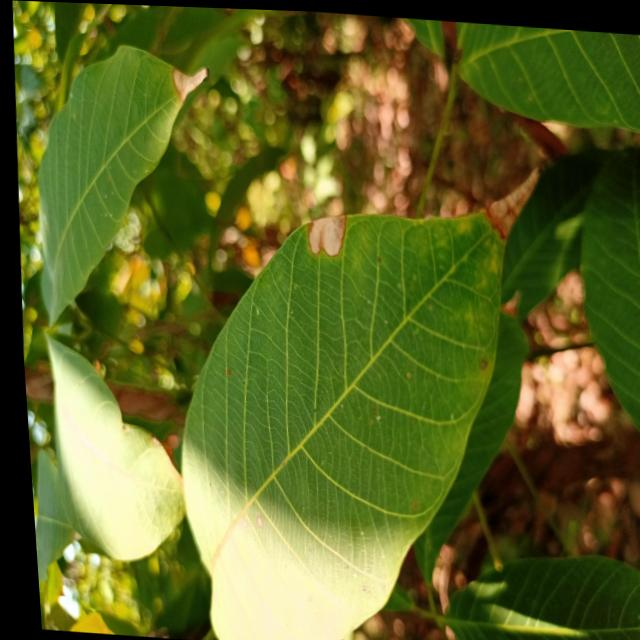Colletotrichum: (471, 354, 482, 366)
Leaf-Blight: (478, 158, 541, 240), (302, 210, 343, 254), (169, 63, 209, 101)
